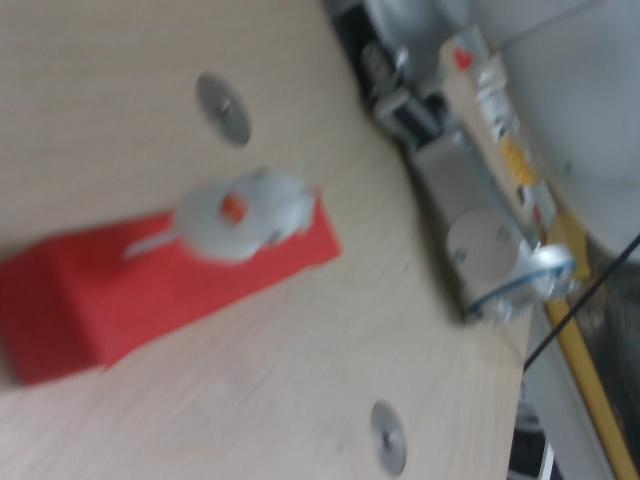w_duck: (175, 168, 314, 263)
